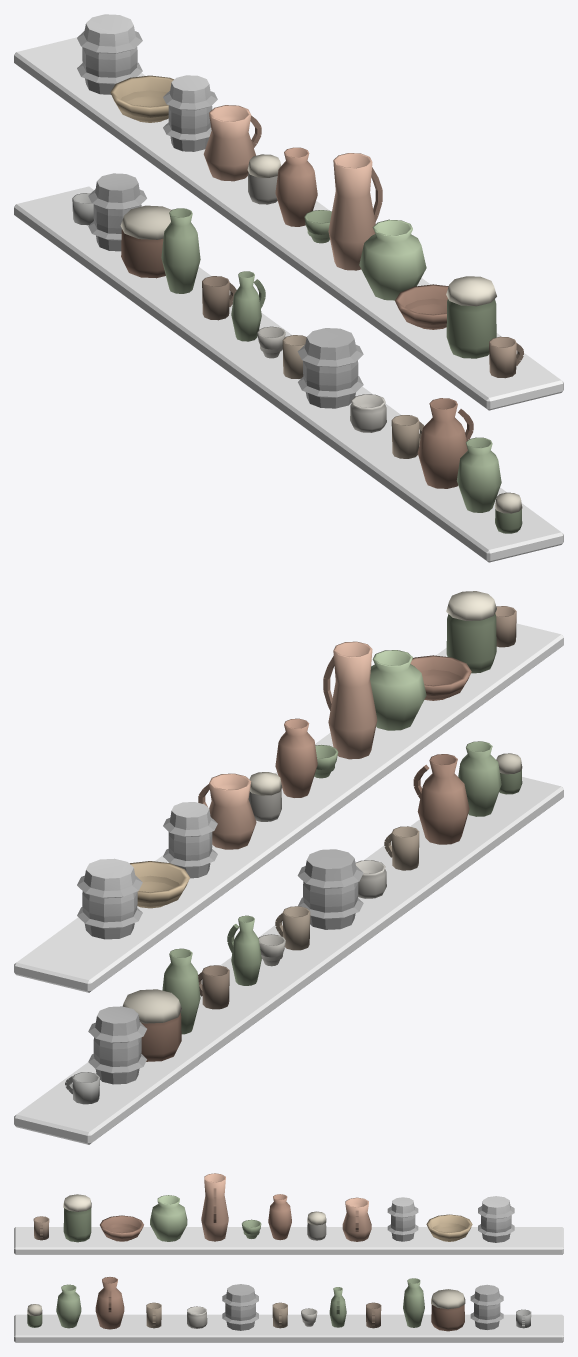
File: jug_shelf.glb
3 views of the same model, one above another, from view 1: azimuth 30°, elevation 25°; view 2: azimuth 150°, elevation 25°; view 3: azimuth 270°, elevation 25° (orthographic). The views are drawn at different scales.
Visible parts, largest first — view 1: barrel.001; view 2: barrel.001; view 3: barrel.001.
Part boxes in pixels (bbox=[...]): barrel.001: bbox=[14, 14, 563, 562]; barrel.001: bbox=[14, 591, 563, 1144]; barrel.001: bbox=[14, 1173, 563, 1342].
Size of the model in its own units: 0.32 by 1.05 by 3.4.
